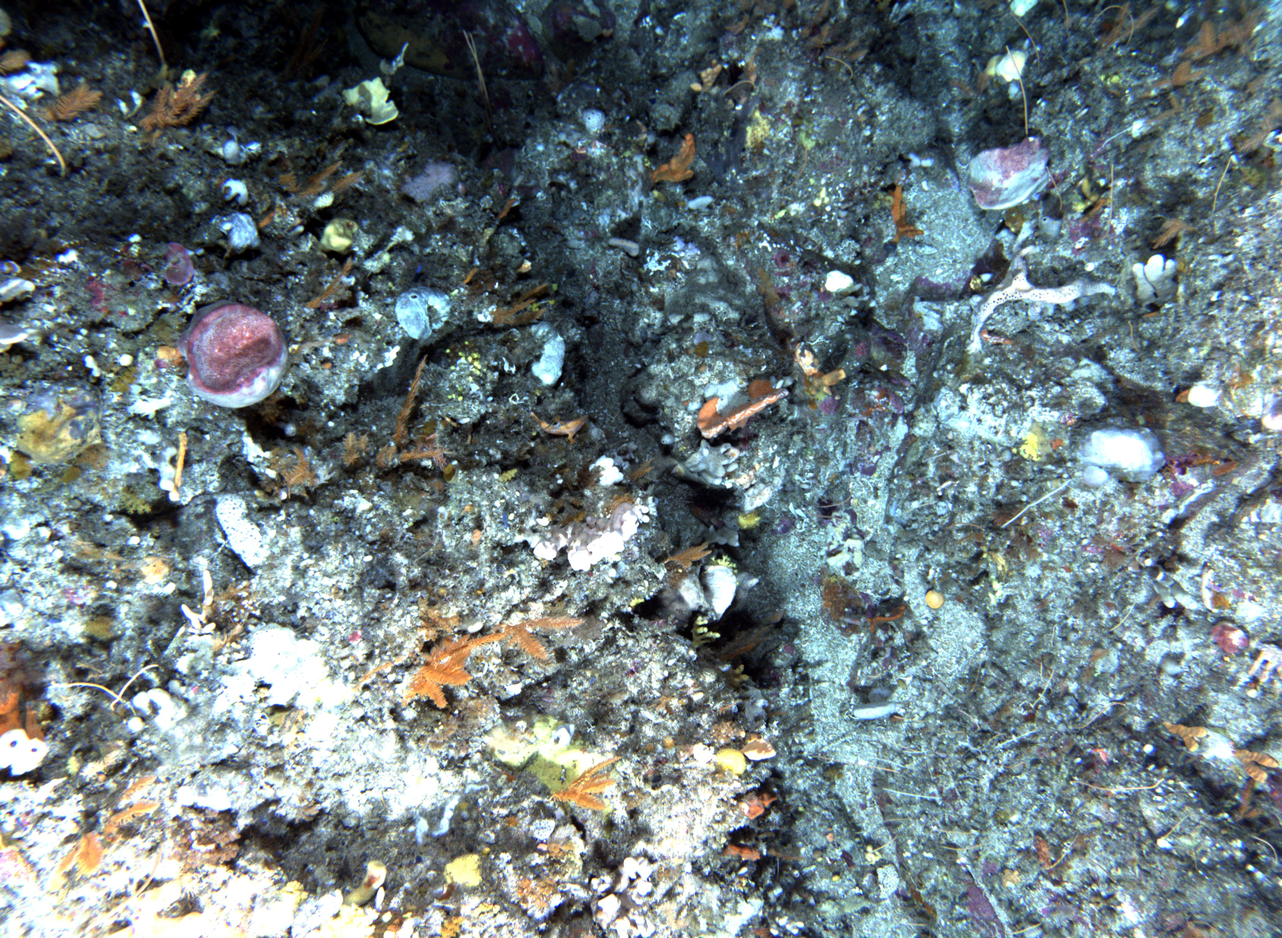Brachionichthyidae: (528, 409, 590, 446)
